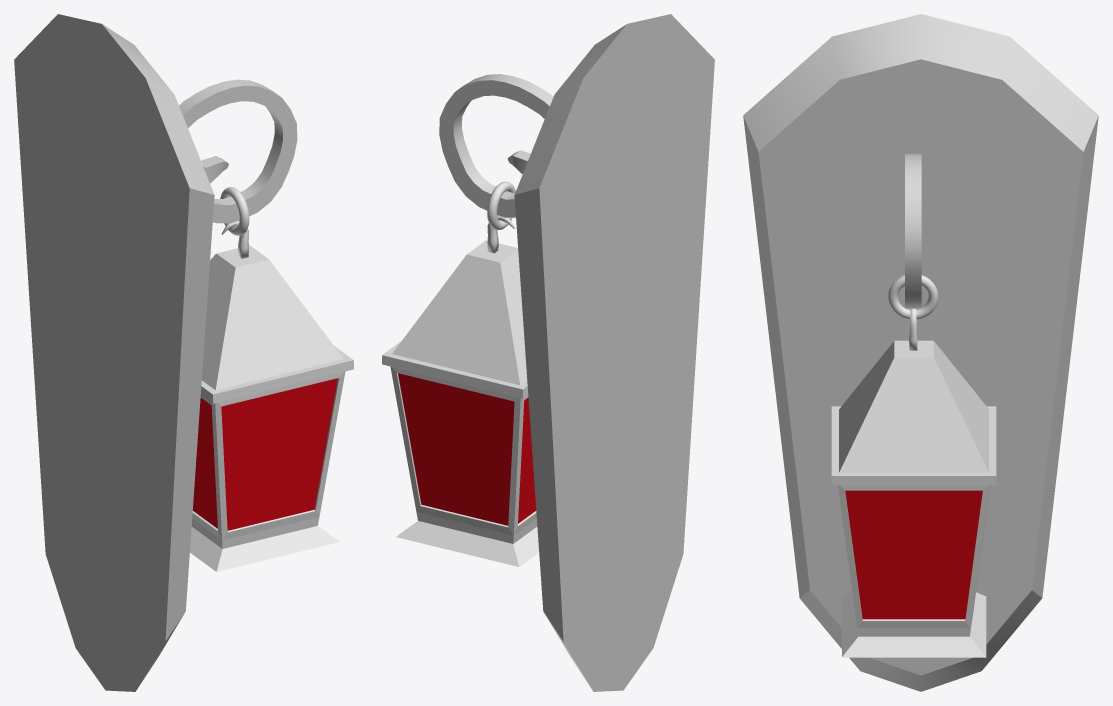
Rendered from WallLantern.fbx.
3 views of the same model, side by side, from view 1: azimuth 30°, elevation 25°; view 2: azimuth 150°, elevation 25°; view 3: azimuth 270°, elevation 25° (orthographic).
Parts seen in each view (by area): view 1: Cube.030, Sign.004; view 2: Cube.030, Sign.004; view 3: Cube.030, Sign.004.
Boxes of the visible parts, x1,y1,x2,y2 form: Cube.030: [14, 14, 297, 691]; Sign.004: [190, 187, 353, 571]; Cube.030: [439, 14, 714, 691]; Sign.004: [382, 181, 539, 566]; Cube.030: [743, 14, 1098, 691]; Sign.004: [831, 275, 996, 657].
Bounding box in the file's own units: 72.05 × 221 × 105.
